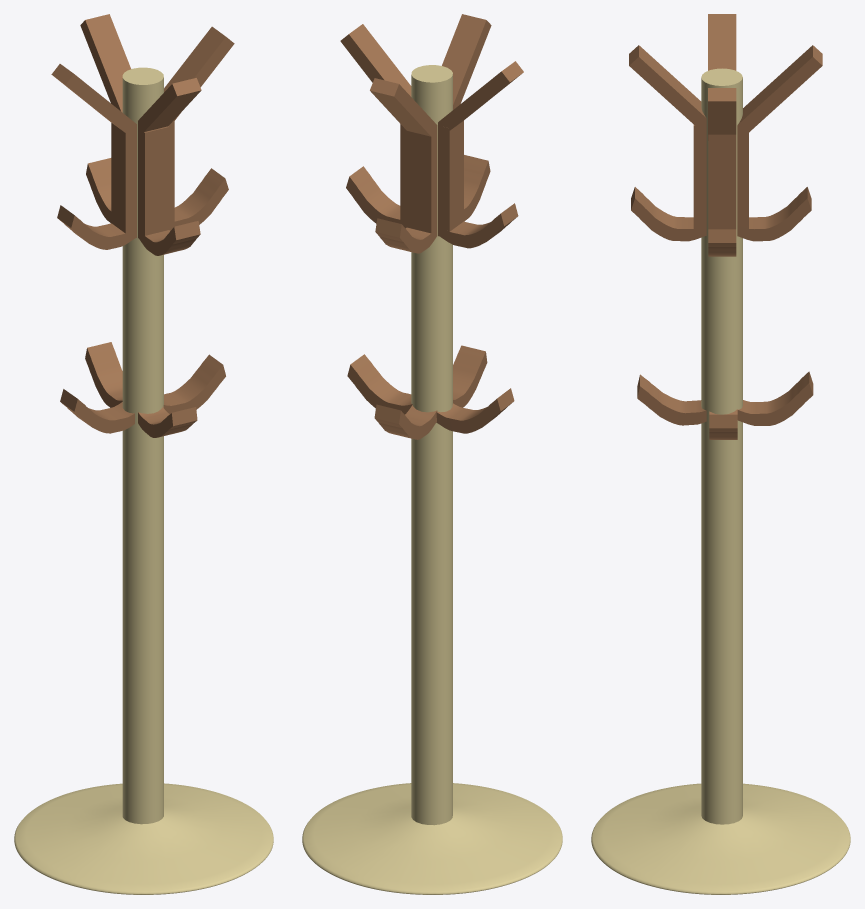
File: CoatStand 1.fbx
The picture shows the model from 3 angles, left to right: view 1: azimuth 30°, elevation 25°; view 2: azimuth 150°, elevation 25°; view 3: azimuth 270°, elevation 25°; orthographic projection.
Visible parts, largest first — view 1: curve3; view 2: curve3; view 3: curve3.
Boxes of the visible parts, x1,y1,x2,y2 form: curve3: [14, 14, 273, 894]; curve3: [302, 14, 562, 894]; curve3: [591, 14, 850, 894].
Size of the model in its own units: 4.04 by 13.59 by 4.04.
